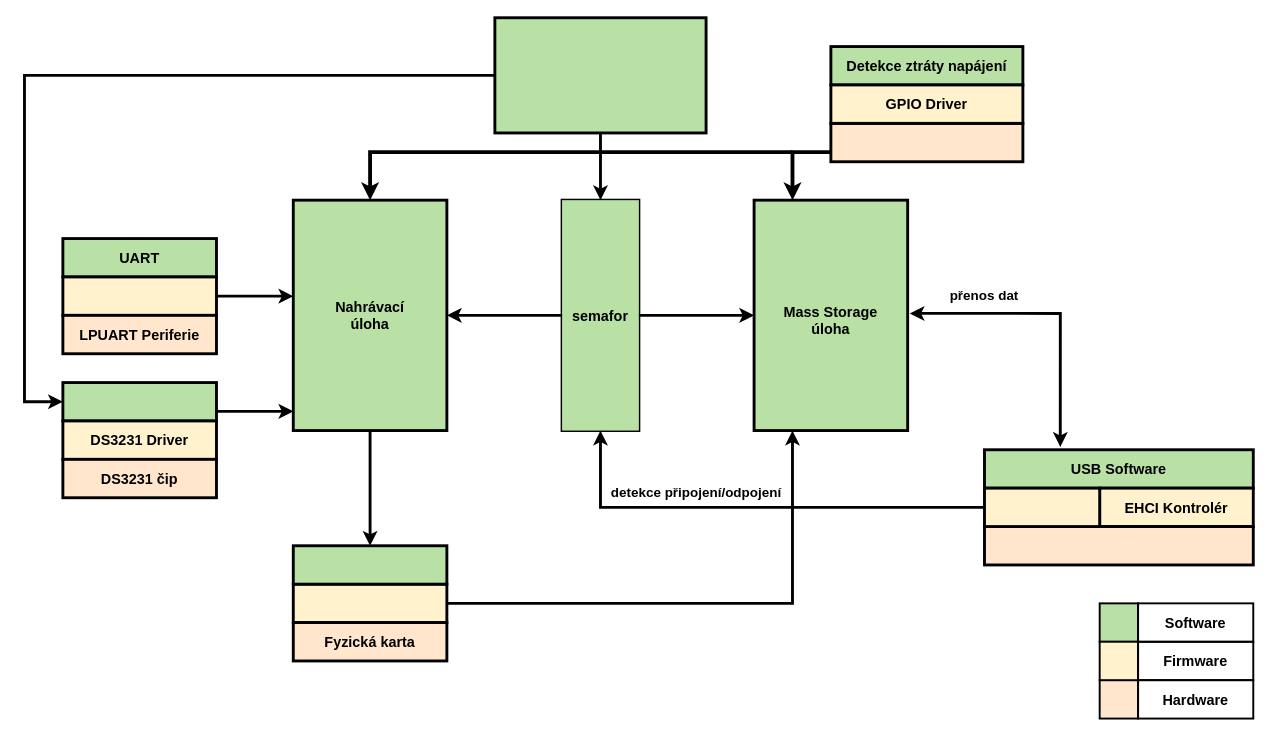
Image size: 1271x736. Some labels were removed from this diagram. Each missing label, with the centre of its shape:
"Externí RTC" belongs at pixel 139 401.
"FATFS" belongs at pixel 369 564.
"Fyzické USB-C" belongs at pixel 1118 545.
"GPIO" belongs at pixel 926 142.
"Inicializace" belongs at pixel 600 75.
"LPUART Driver" belongs at pixel 139 295.
"OTG" belongs at pixel 1042 507.
"SDHC Firmware" belongs at pixel 369 603.
